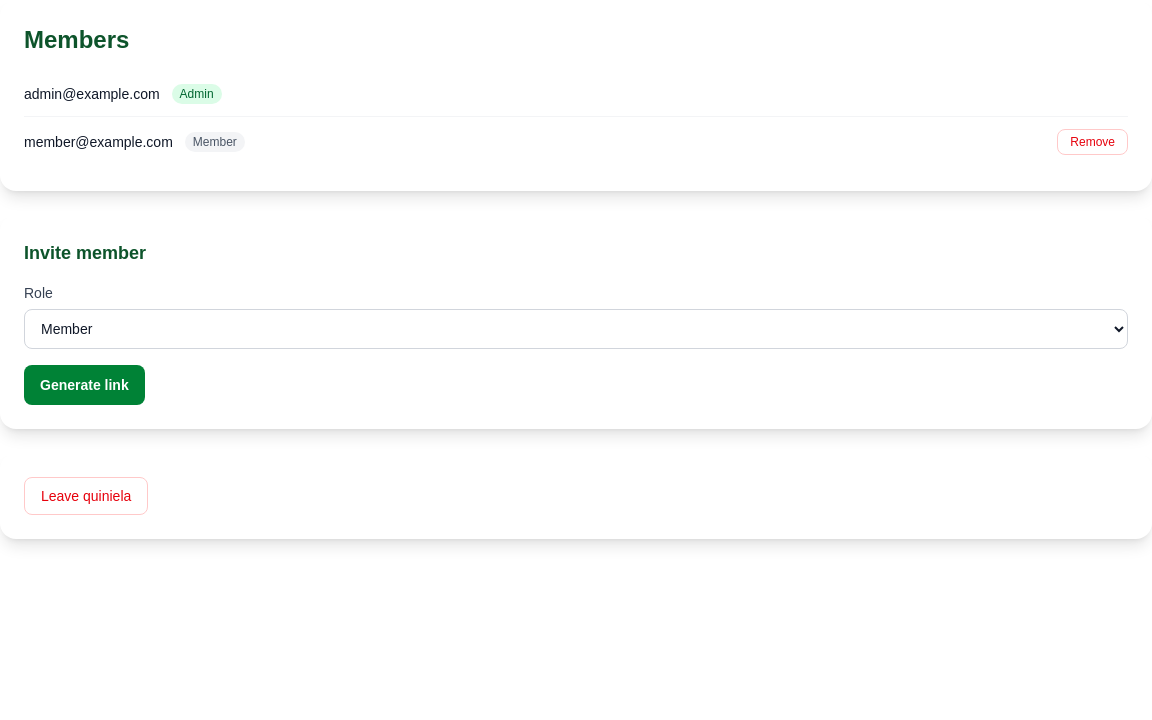
MembersClient › shows generated invite URL and copy button after generating invite
Click the button "Generate link" at (84, 385), box [24,365,145,405]
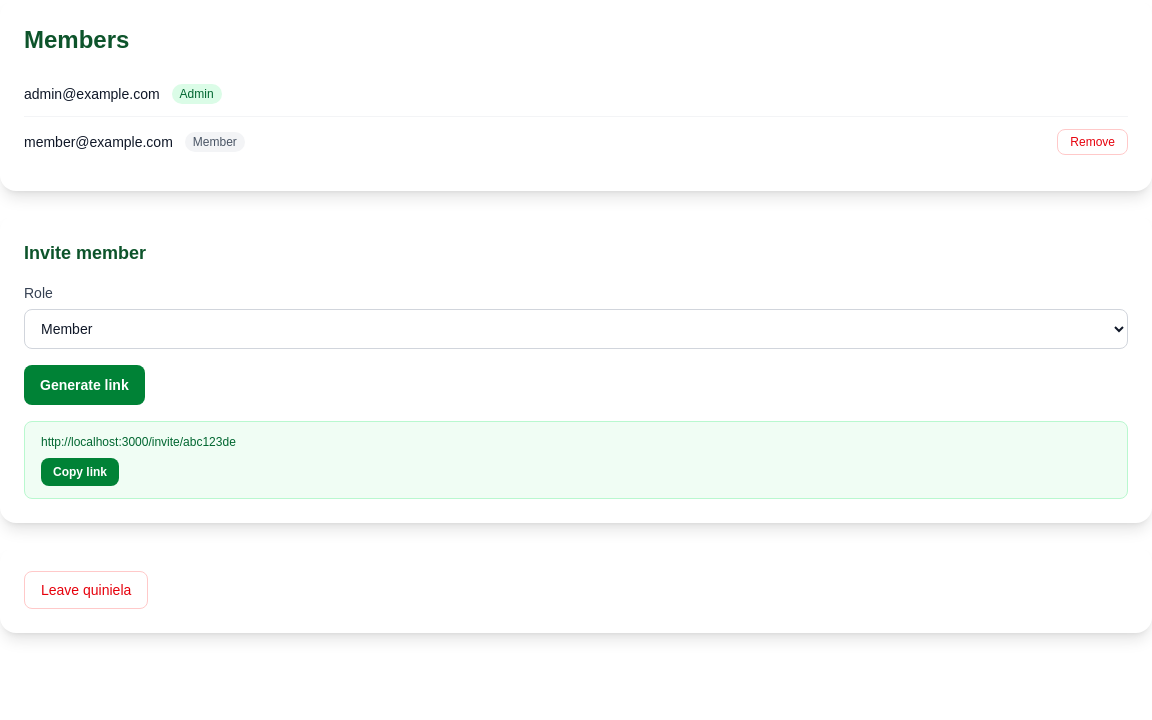
Expected: the text "http://localhost:3000/invite/abc123de" is shown, [41,435,236,449]
Expected: the button "Copy link" is shown, [41,458,119,486]
